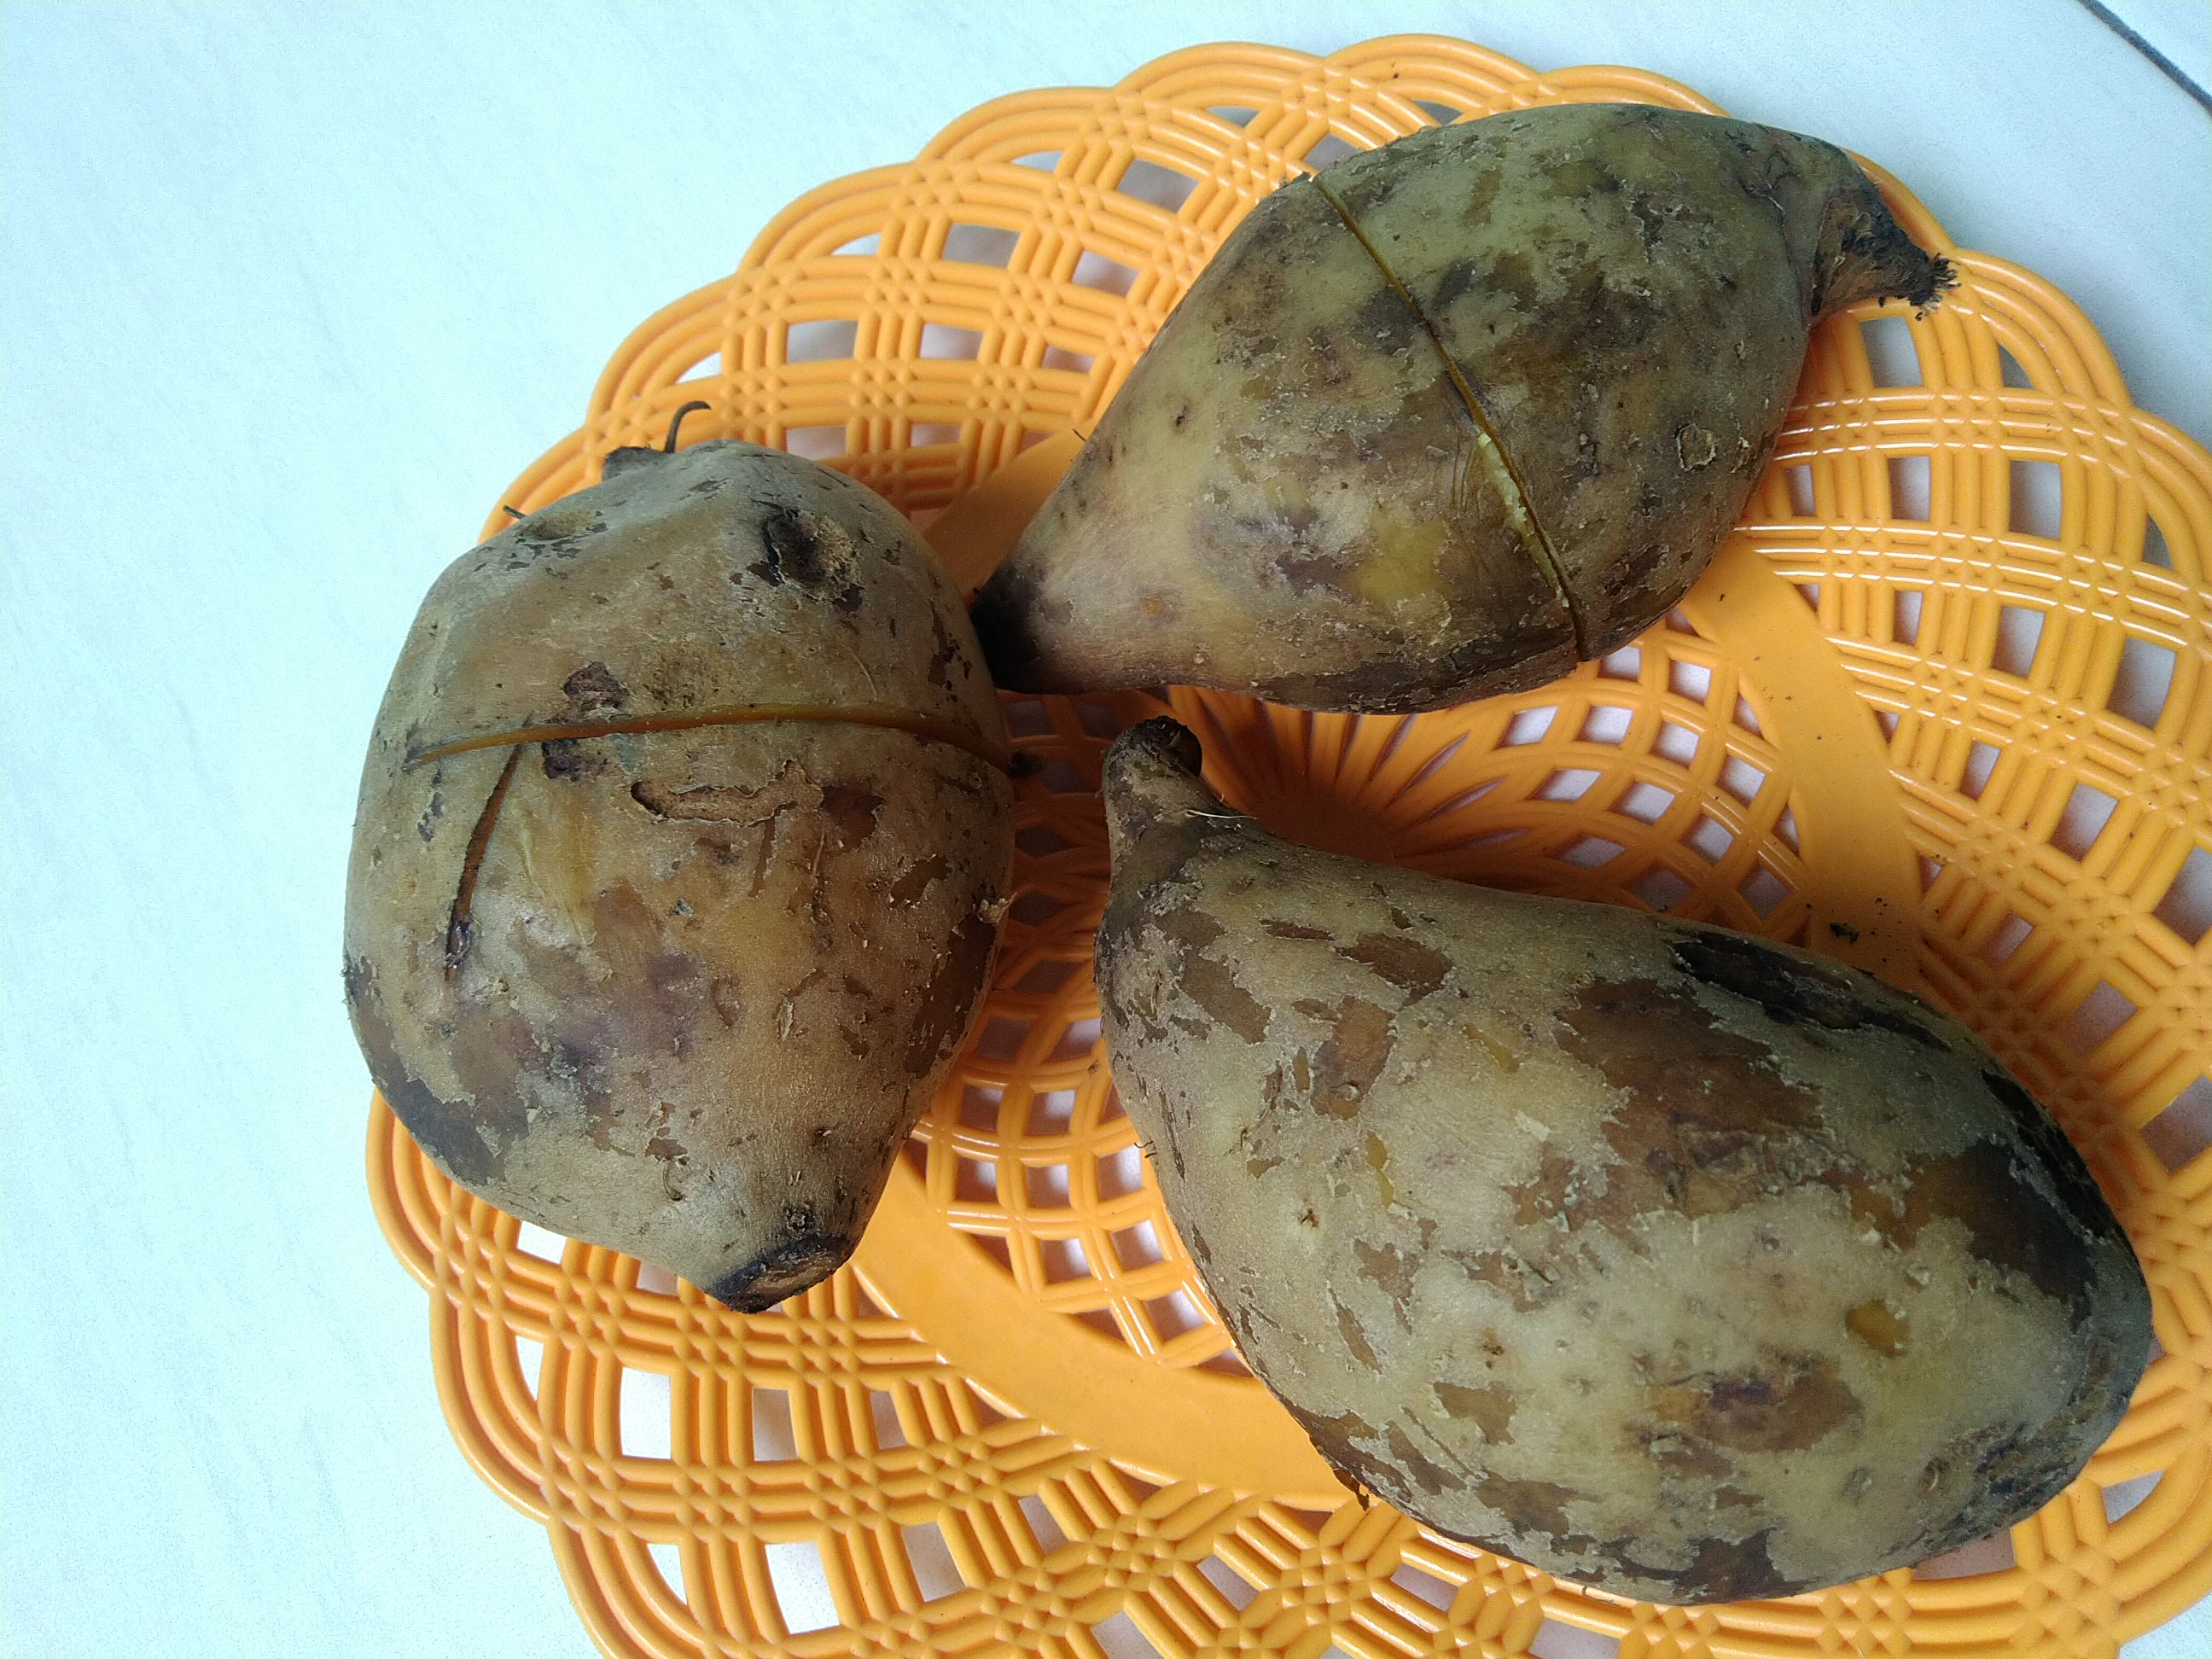ubi kuning: (1085, 714, 2168, 1595), (310, 423, 1031, 1328), (974, 129, 2024, 702)
